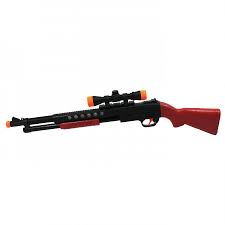Arma Falsa: (3, 89, 222, 140)
